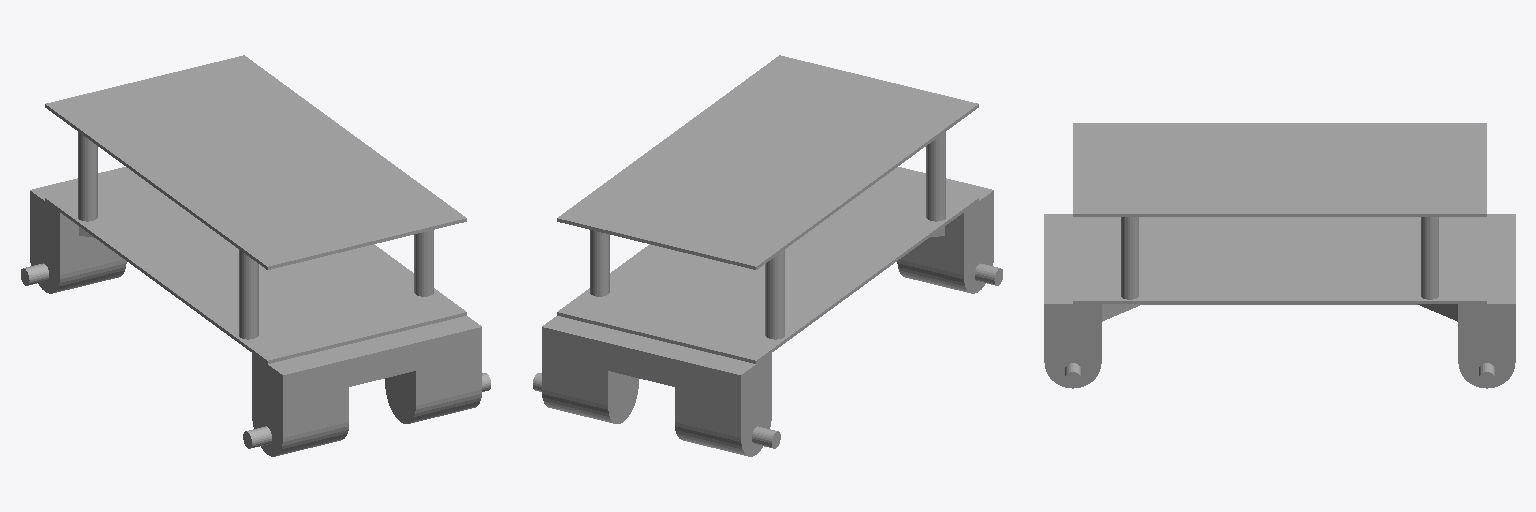
URDF robot description (examplo):
<robot name="examplo">
    <!-- Specify some standard inertial calculations https://en.wikipedia.org/wiki/List_of_moments_of_inertia -->
    <!-- These make use of xacro's mathematical functionality -->
    <material name="silver">
        <color rgba="0.700 0.700 0.700 1.000" />
    </material>
    <link name="base_link" />
    <link name="chassis_link">
        <inertial>
            <origin rpy="0 0 0" xyz="0 0 -0.0675" />
            <mass value="2.45" />
            <inertia ixx="0.025954687500000004" ixy="0.0" ixz="0.0" iyy="0.0103359375" iyz="0.0" izz="0.028848750000000003" />
        </inertial>
        <visual>
            <origin rpy="0 0 0" xyz="0 0 0" />
            <geometry>
                <mesh filename="package://robot_description/meshes/chassis.stl" scale="0.001 0.001 0.001" />
            </geometry>
            <material name="silver" />
        </visual>
        <collision>
            <origin rpy="0 0 0" xyz="0 0 -0.0675" />
            <geometry>
                <box size="0.18 0.33 0.135" />
            </geometry>
        </collision>
    </link>
    <gazebo reference="chassis">
        <material>Gazebo/Blue</material>
    </gazebo>
    <joint name="chassis_joint" type="fixed">
        <parent link="base_link" />
        <child link="chassis_link" />
        <origin xyz="0 0 0" />
    </joint>
    <link name="front_right_wheel_link">
        <inertial>
            <origin rpy="0 1.5707963267948966 0" xyz="0 0 0" />
            <mass value="0.136" />
            <inertia ixx="9.509800000000002e-05" ixy="0.0" ixz="0.0" iyy="9.509800000000002e-05" iyz="0.0" izz="0.00015021200000000002" />
        </inertial>
        <visual>
            <origin rpy="0 3.141592653589793 0" xyz="0 0 0" />
            <geometry>
                <mesh filename="package://robot_description/meshes/wheel_1.stl" scale="0.001 0.001 0.001" />
            </geometry>
            <material name="silver" />
        </visual>
        <collision>
            <origin rpy="0 1.5707963267948966 0" xyz="0 0 0" />
            <geometry>
                <cylinder length="0.042" radius="0.047" />
            </geometry>
        </collision>
    </link>
    <gazebo reference="front_right_wheel_link">
        <material>Gazebo/Green</material>
        <kp>1000000000000000000000000000.0</kp>
        <kd>1000000000000000000000000000.0</kd>
        <mu1 value="1000.0" />
        <mu2 value="100.0" />
    </gazebo>
    <joint name="front_right_wheel_joint" type="continuous">
        <origin rpy="0 0 0" xyz="0.09 0.145 -0.121" />
        <parent link="chassis_link" />
        <child link="front_right_wheel_link" />
        <axis xyz="1.0 0.0 0.0" />
    </joint>
    <link name="rear_left_wheel_link">
        <inertial>
            <origin rpy="0 1.5707963267948966 0" xyz="0 0 0" />
            <mass value="0.136" />
            <inertia ixx="9.509800000000002e-05" ixy="0.0" ixz="0.0" iyy="9.509800000000002e-05" iyz="0.0" izz="0.00015021200000000002" />
        </inertial>
        <visual>
            <origin rpy="0 0 0" xyz="0 0 0" />
            <geometry>
                <mesh filename="package://robot_description/meshes/wheel_1.stl" scale="0.001 0.001 0.001" />
            </geometry>
            <material name="silver" />
        </visual>
        <collision>
            <origin rpy="0 1.5707963267948966 0" xyz="0 0 0" />
            <geometry>
                <cylinder length="0.042" radius="0.047" />
            </geometry>
        </collision>
    </link>
    <gazebo reference="rear_left_wheel_link">
        <material>Gazebo/Green</material>
        <kp>1000000000000000000000000000.0</kp>
        <kd>1000000000000000000000000000.0</kd>
        <mu1 value="1000.0" />
        <mu2 value="100.0" />
    </gazebo>
    <joint name="rear_left_wheel_joint" type="continuous">
        <origin rpy="0 0 0" xyz="-0.09 -0.145 -0.121" />
        <parent link="chassis_link" />
        <child link="rear_left_wheel_link" />
        <axis xyz="1.0 0.0 0.0" />
    </joint>
    <link name="front_left_wheel_link">
        <inertial>
            <origin rpy="0 1.5707963267948966 0" xyz="0 0 0" />
            <mass value="0.136" />
            <inertia ixx="9.509800000000002e-05" ixy="0.0" ixz="0.0" iyy="9.509800000000002e-05" iyz="0.0" izz="0.00015021200000000002" />
        </inertial>
        <visual>
            <origin rpy="0 1.5707963267948966 0" xyz="0 0 0" />
            <geometry>
                <mesh filename="package://robot_description/meshes/wheel_2.stl" scale="0.001 0.001 0.001" />
            </geometry>
            <material name="silver" />
        </visual>
        <collision>
            <origin rpy="0 1.5707963267948966 0" xyz="0 0 0" />
            <geometry>
                <cylinder length="0.042" radius="0.047" />
            </geometry>
        </collision>
    </link>
    <gazebo reference="front_left_wheel_link">
        <material>Gazebo/Green</material>
        <kp>1000000000000000000000000000.0</kp>
        <kd>1000000000000000000000000000.0</kd>
        <mu1 value="1000.0" />
        <mu2 value="100.0" />
    </gazebo>
    <joint name="front_left_wheel_joint" type="continuous">
        <origin rpy="0 0 0" xyz="-0.09 0.145 -0.121" />
        <parent link="chassis_link" />
        <child link="front_left_wheel_link" />
        <axis xyz="1.0 0.0 0.0" />
    </joint>
    <link name="rear_right_wheel_link">
        <inertial>
            <origin rpy="0 1.5707963267948966 0" xyz="0 0 0" />
            <mass value="0.136" />
            <inertia ixx="9.509800000000002e-05" ixy="0.0" ixz="0.0" iyy="9.509800000000002e-05" iyz="0.0" izz="0.00015021200000000002" />
        </inertial>
        <visual>
            <origin rpy="0 -1.5707963267948966 0" xyz="0 0 0" />
            <geometry>
                <mesh filename="package://robot_description/meshes/wheel_2.stl" scale="0.001 0.001 0.001" />
            </geometry>
            <material name="silver" />
        </visual>
        <collision>
            <origin rpy="0 1.5707963267948966 0" xyz="0 0 0" />
            <geometry>
                <cylinder length="0.042" radius="0.047" />
            </geometry>
        </collision>
    </link>
    <gazebo reference="rear_right_wheel_link">
        <material>Gazebo/Green</material>
        <kp>1000000000000000000000000000.0</kp>
        <kd>1000000000000000000000000000.0</kd>
        <mu1 value="1000.0" />
        <mu2 value="100.0" />
    </gazebo>
    <joint name="rear_right_wheel_joint" type="continuous">
        <origin rpy="0 0 0" xyz="0.09 -0.145 -0.121" />
        <parent link="chassis_link" />
        <child link="rear_right_wheel_link" />
        <axis xyz="1.0 0.0 0.0" />
    </joint>
</robot>

--- What the picture shows (computed from the rendered views, not written in the file) ---
The picture shows the robot from 3 angles, left to right: view 1: azimuth 30°, elevation 25°; view 2: azimuth 150°, elevation 25°; view 3: azimuth 270°, elevation 25°; orthographic projection.
Model examplo with 6 links and 5 joints (4 continuous, 1 fixed), rooted at base_link, posed all joints at 0.
Visible links, largest first — view 1: chassis_link; view 2: chassis_link; view 3: chassis_link.
Link boxes in pixels (box(x1,y1,x2,y2)): chassis_link: box(21, 55, 490, 456); chassis_link: box(533, 55, 1002, 456); chassis_link: box(1044, 123, 1515, 388).
Bounding box of the posed robot: 0.18 × 0.33 × 0.135 m (x, y, z).
1 mesh visuals loaded from 3 distinct referenced files (1 ASCII STL); not drawn: 4 (reference not matched to a file when rendering).